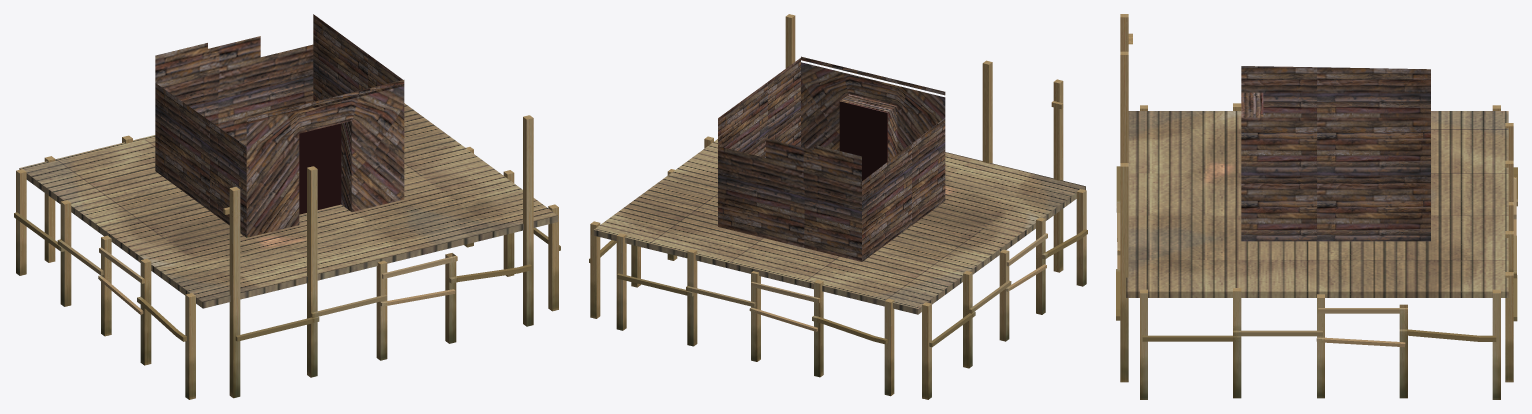
The model's file is halfbrokenhouse.fbx.
3 views of the same model, side by side, from view 1: azimuth 30°, elevation 25°; view 2: azimuth 150°, elevation 25°; view 3: azimuth 270°, elevation 25° (orthographic). The views are drawn at different scales.
Visible parts, largest first — view 1: house, pillars; view 2: house, pillars; view 3: house, pillars.
Boxes of the visible parts, x1,y1,x2,y2 form: house: (19,14,558,308); pillars: (14,115,560,399); house: (593,56,1085,314); pillars: (589,14,1087,399); house: (1126,66,1508,297); pillars: (1116,14,1517,399).
Bounding box in the file's own units: 478 × 267 × 423.
2 materials, 2 textured.
